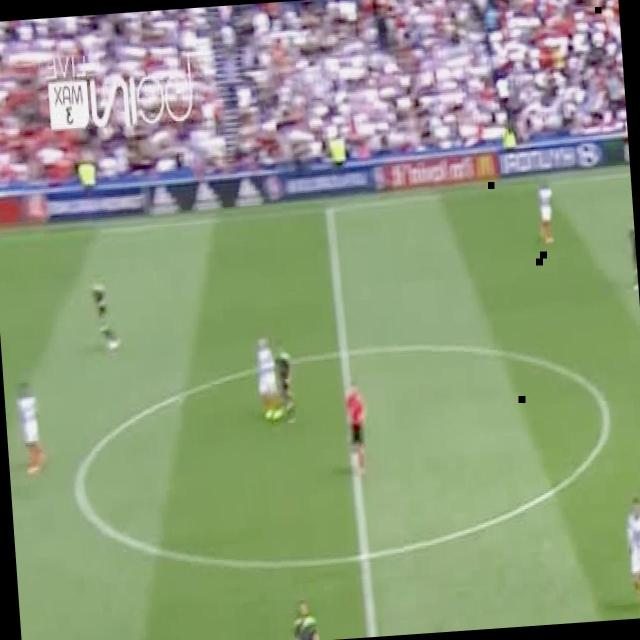player-white: (15, 382, 49, 476), (342, 379, 370, 480), (90, 272, 121, 354), (254, 334, 280, 424), (622, 496, 640, 614), (273, 341, 297, 424), (535, 174, 555, 246), (290, 596, 320, 640), (626, 211, 639, 291)
